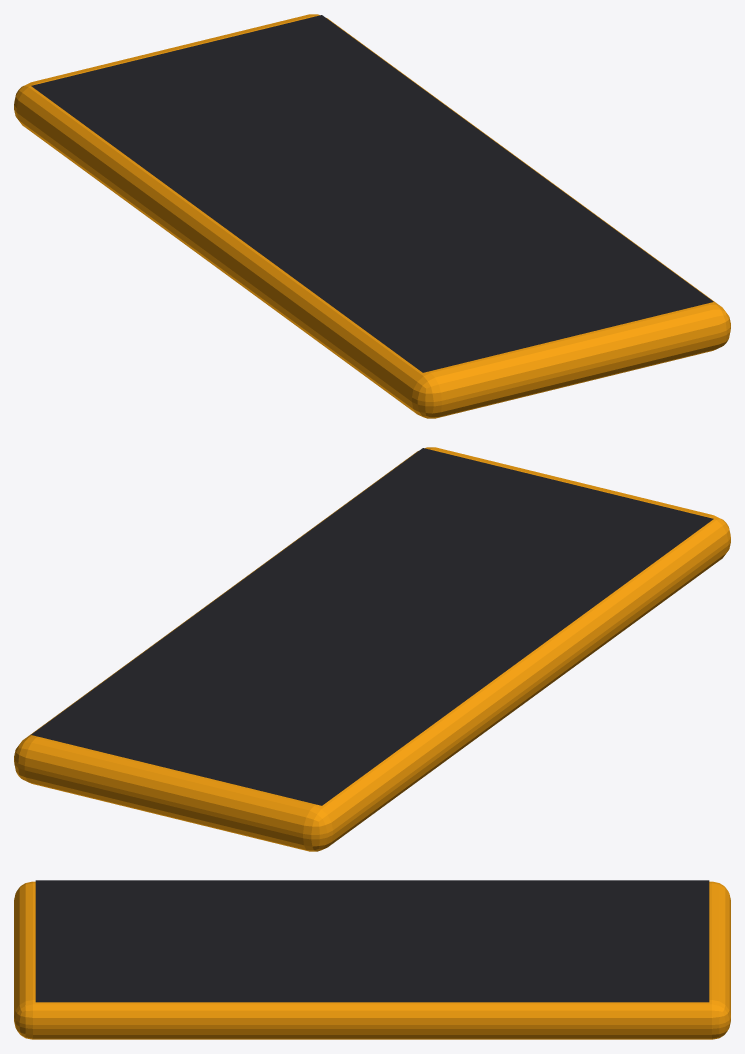
File: Phone_387.glb
3 views of the same model, one above another, from view 1: azimuth 30°, elevation 25°; view 2: azimuth 150°, elevation 25°; view 3: azimuth 270°, elevation 25° (orthographic). The views are drawn at different scales.
Visible parts, largest first — view 1: Phone_Screen, Phone_Body; view 2: Phone_Screen, Phone_Body; view 3: Phone_Screen, Phone_Body.
Part boxes in pixels (x1,y1,x2,y2): Phone_Screen: [31, 15, 713, 372]; Phone_Body: [14, 14, 730, 418]; Phone_Screen: [31, 448, 713, 805]; Phone_Body: [14, 447, 730, 851]; Phone_Screen: [35, 880, 709, 1002]; Phone_Body: [14, 881, 730, 1039].
Bounding box in the file's own units: 0.0719 × 0.0097 × 0.1642.
